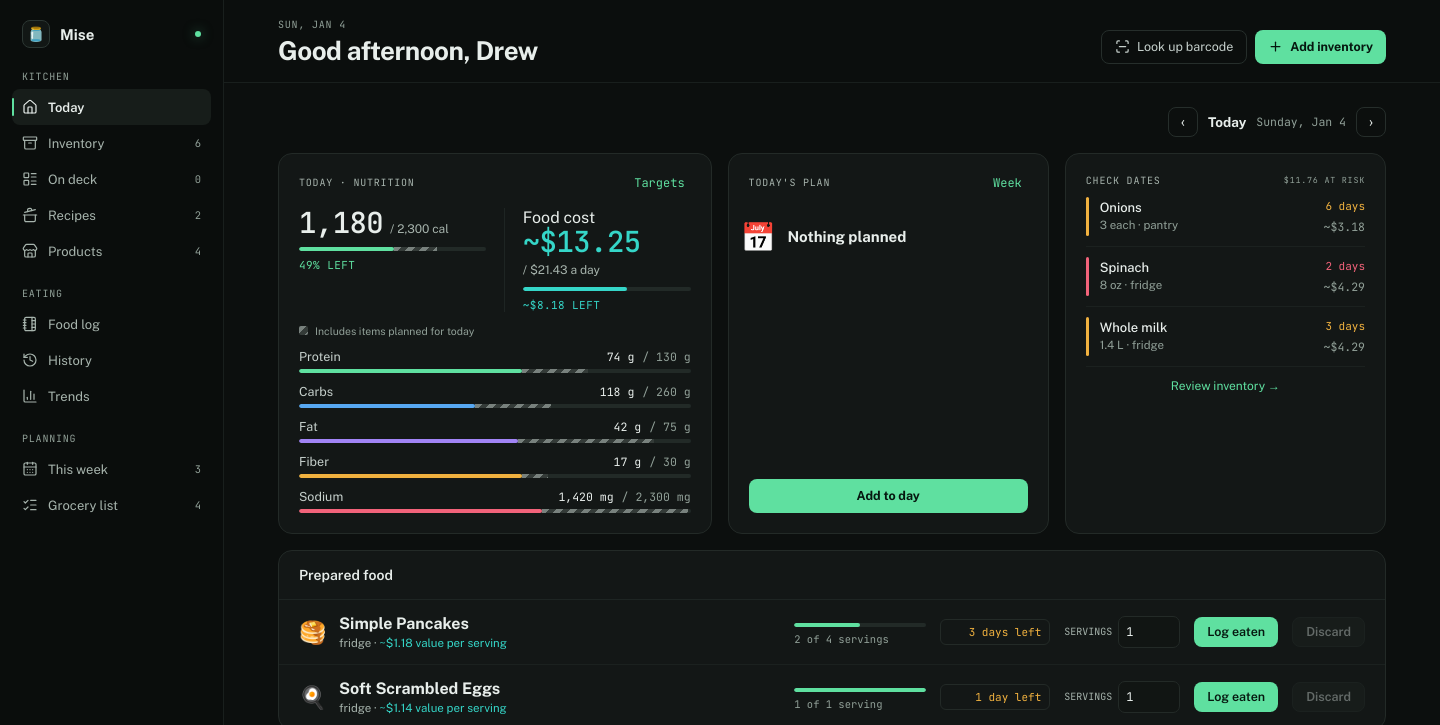
Test case: uses the owner calendar for Food log and historical day selection
This screenshot has width=1440, height=725.
Click the button "Food log". click: (112,324)
box: 12,306 -> 211,342
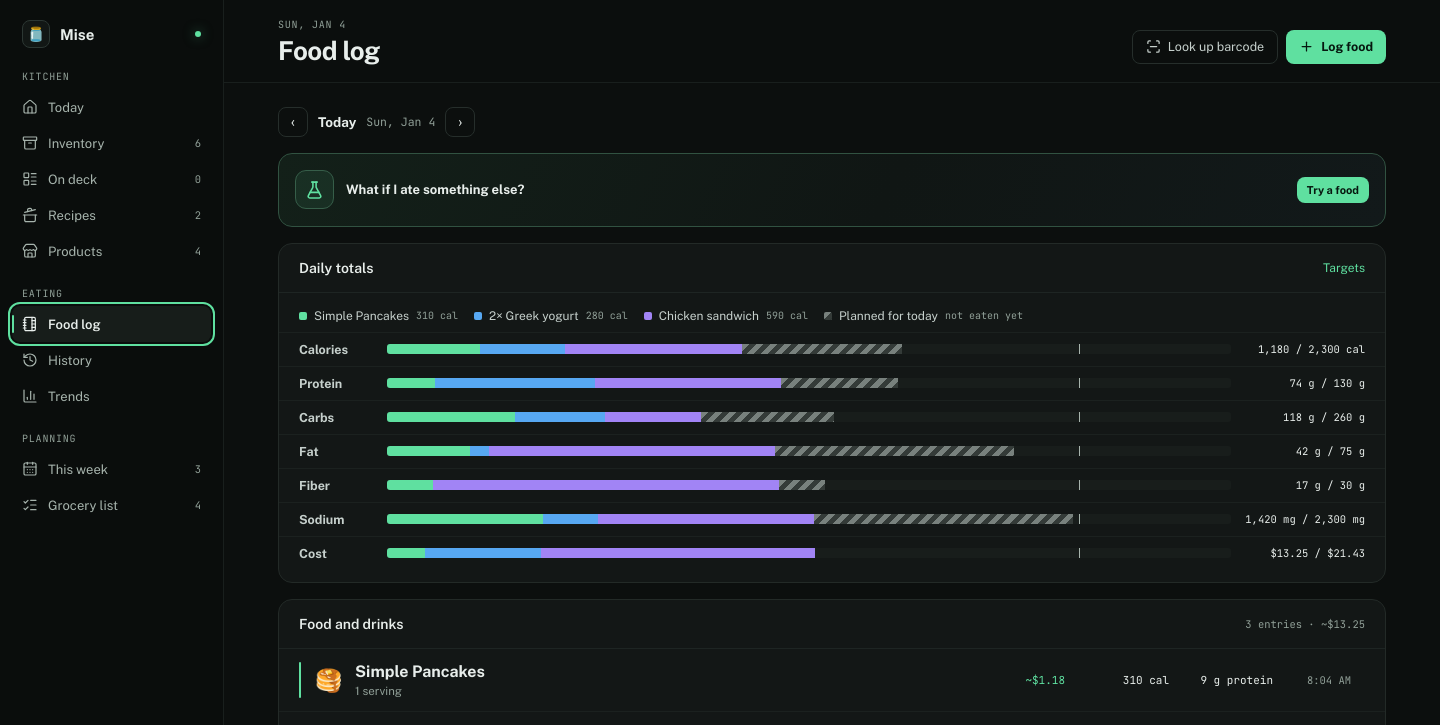
Expected: the button named "Next day" is disabled, 445,107 -> 475,137
Expected: the text "Sun, Jan 4" is shown, 366,114 -> 435,129
Click the button named "Previous day". click: (293,122)
box: 278,107 -> 308,137
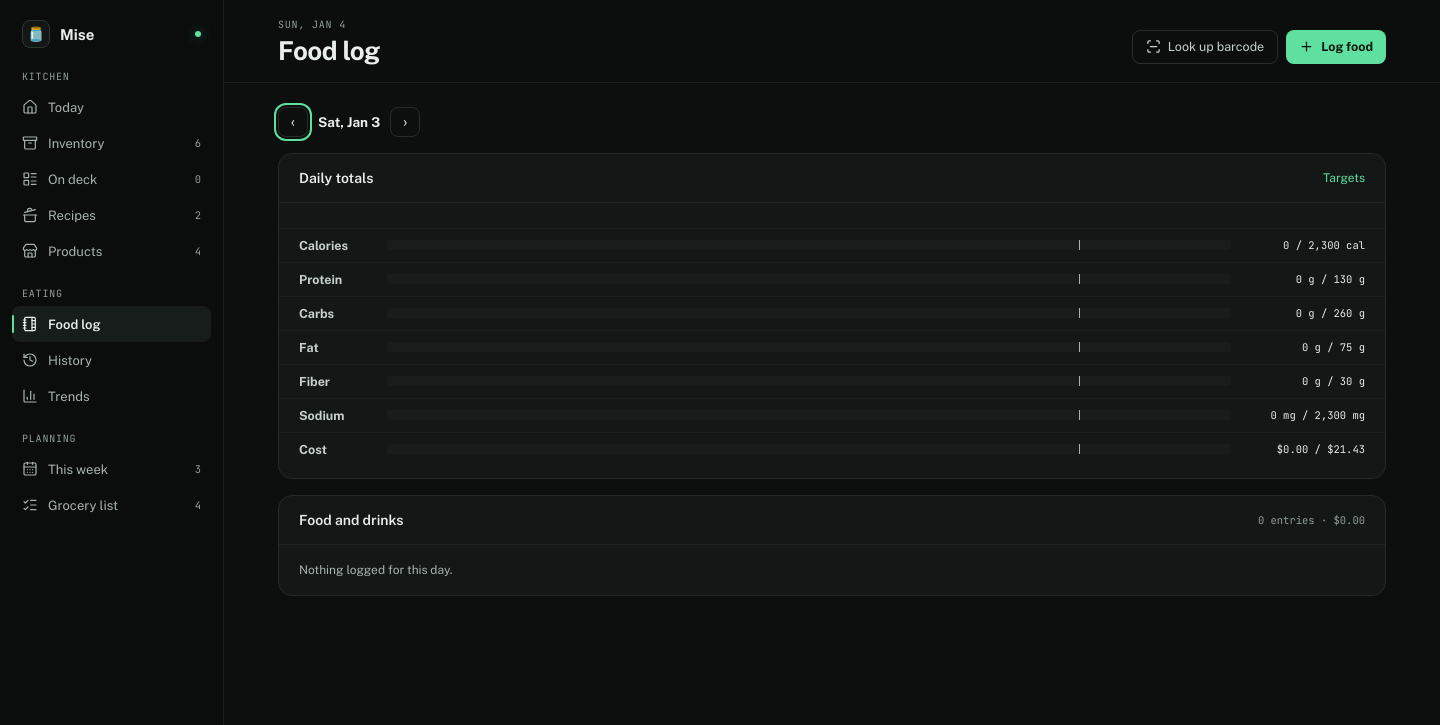
Expected: the text "Sat, Jan 3" is shown, 318,114 -> 380,130
Expected: the button named "Next day" is enabled, 390,107 -> 420,137
